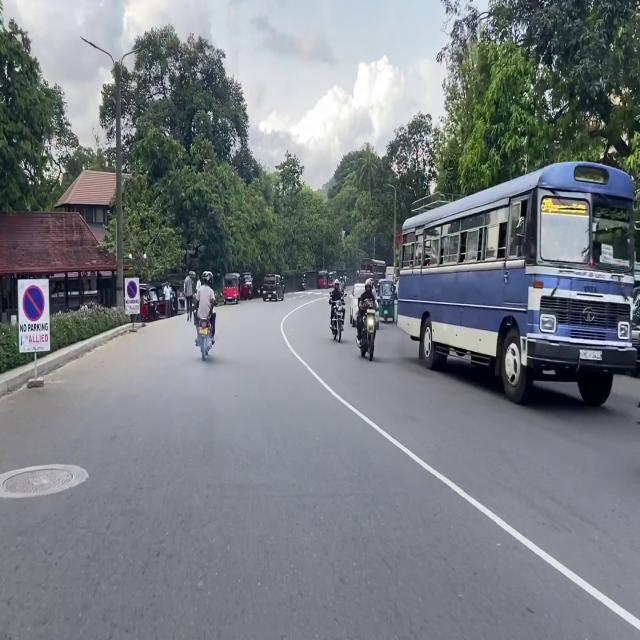bus: (398, 161, 635, 407), (359, 259, 385, 283)
car: (350, 283, 379, 328), (263, 275, 284, 302)
motorcycle: (357, 300, 377, 360), (198, 319, 211, 360), (332, 300, 345, 341), (301, 274, 305, 290), (257, 289, 261, 297)
person: (195, 271, 216, 345), (357, 279, 375, 340), (329, 279, 343, 328), (184, 273, 193, 319), (163, 282, 172, 318), (195, 273, 201, 296), (339, 277, 344, 290)
three wheeler: (140, 283, 159, 321), (378, 280, 395, 322), (223, 273, 241, 303), (170, 280, 185, 315), (242, 273, 252, 299), (318, 271, 329, 288), (329, 271, 336, 288)
